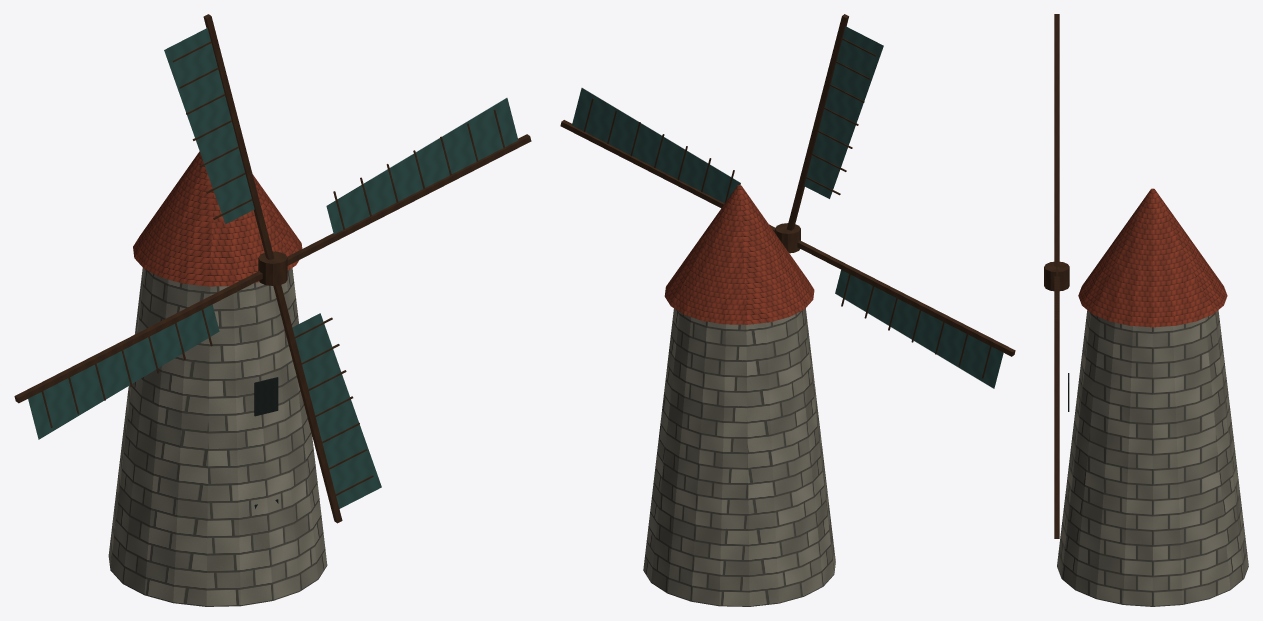
Rendered from SG_Windmill_LOD2.fbx.
3 renders of one model, left to right at view 1: azimuth 30°, elevation 25°; view 2: azimuth 150°, elevation 25°; view 3: azimuth 270°, elevation 25°, orthographic. The views are drawn at different scales.
Parts seen in each view (by area): view 1: SG_Windmill_Detail2; view 2: SG_Windmill_Detail2; view 3: SG_Windmill_Detail2.
Boxes of the visible parts, box(x1,y1,x2,y2) form: SG_Windmill_Detail2: box(14, 14, 531, 606); SG_Windmill_Detail2: box(560, 14, 1015, 606); SG_Windmill_Detail2: box(1044, 14, 1248, 606).
Size of the model in its own units: 48.57 by 54.28 by 19.2.
